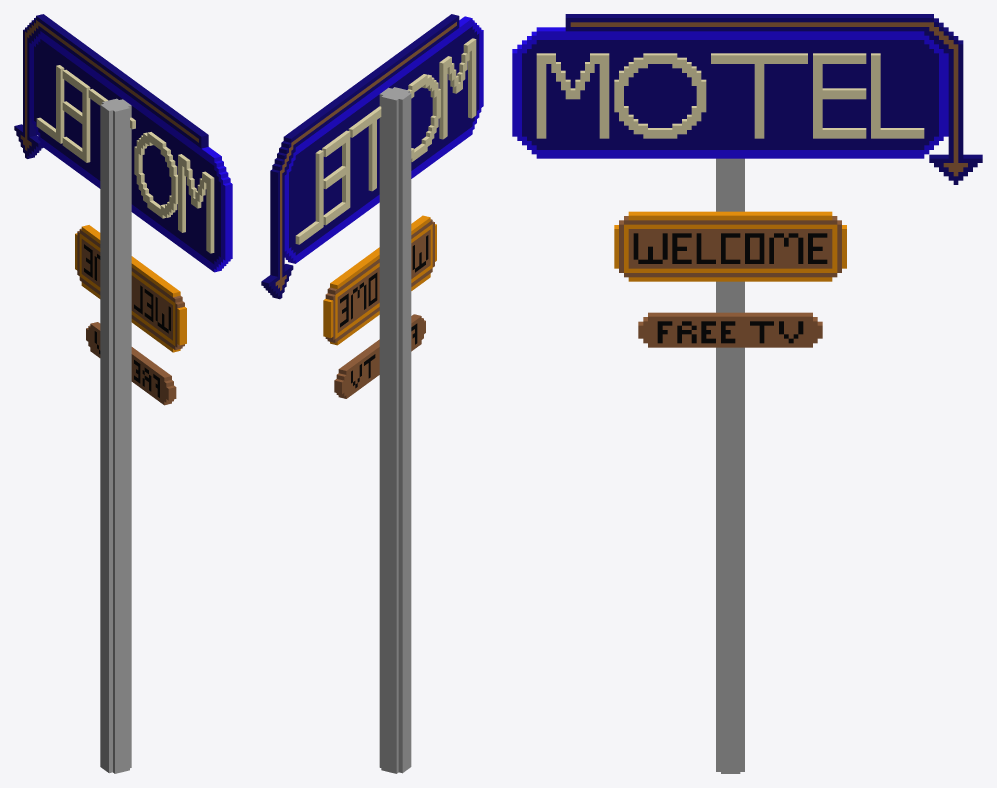
File: motel-0.obj
The picture shows the model from 3 angles, left to right: view 1: azimuth 30°, elevation 25°; view 2: azimuth 150°, elevation 25°; view 3: azimuth 270°, elevation 25°; orthographic projection. The views are drawn at different scales.
Bounding box in the file's own units: 0.9 × 17.3 × 9.7.
Materials: 1 (1 with a texture image).
